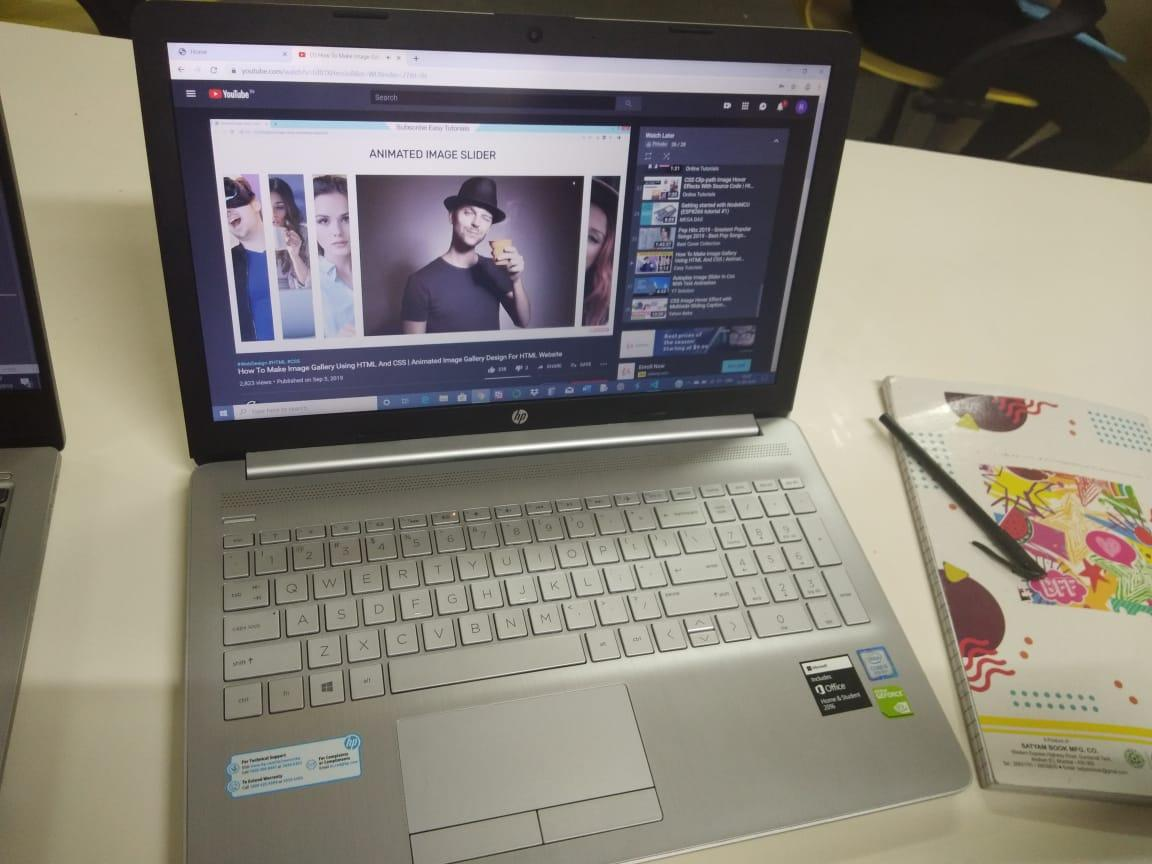laptop: (99, 2, 1000, 864)
